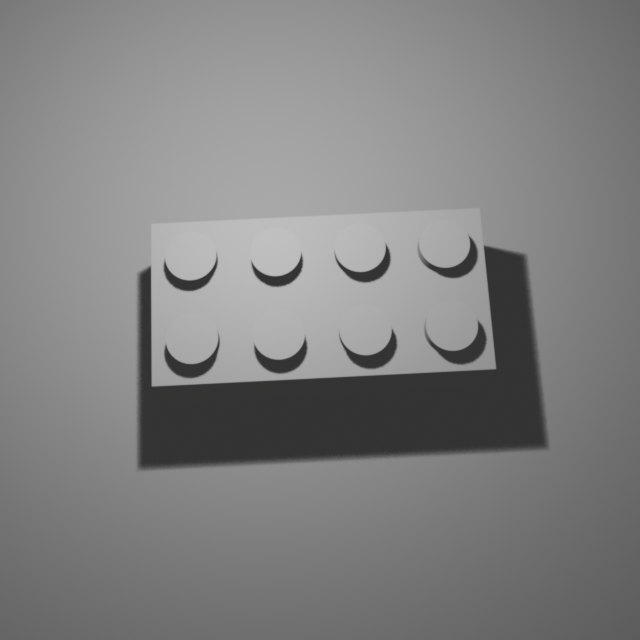lego_2x4: (148, 202, 499, 403)
